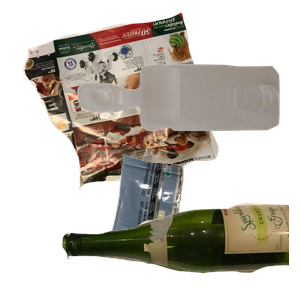glass: (60, 201, 300, 300)
paper: (20, 10, 231, 190)
plastic: (75, 62, 300, 186)
trash: (104, 152, 280, 300)
